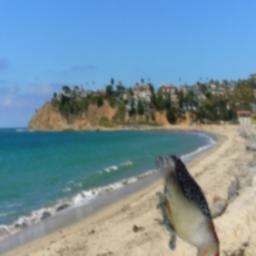Woodpecker: (157, 155, 220, 256)
